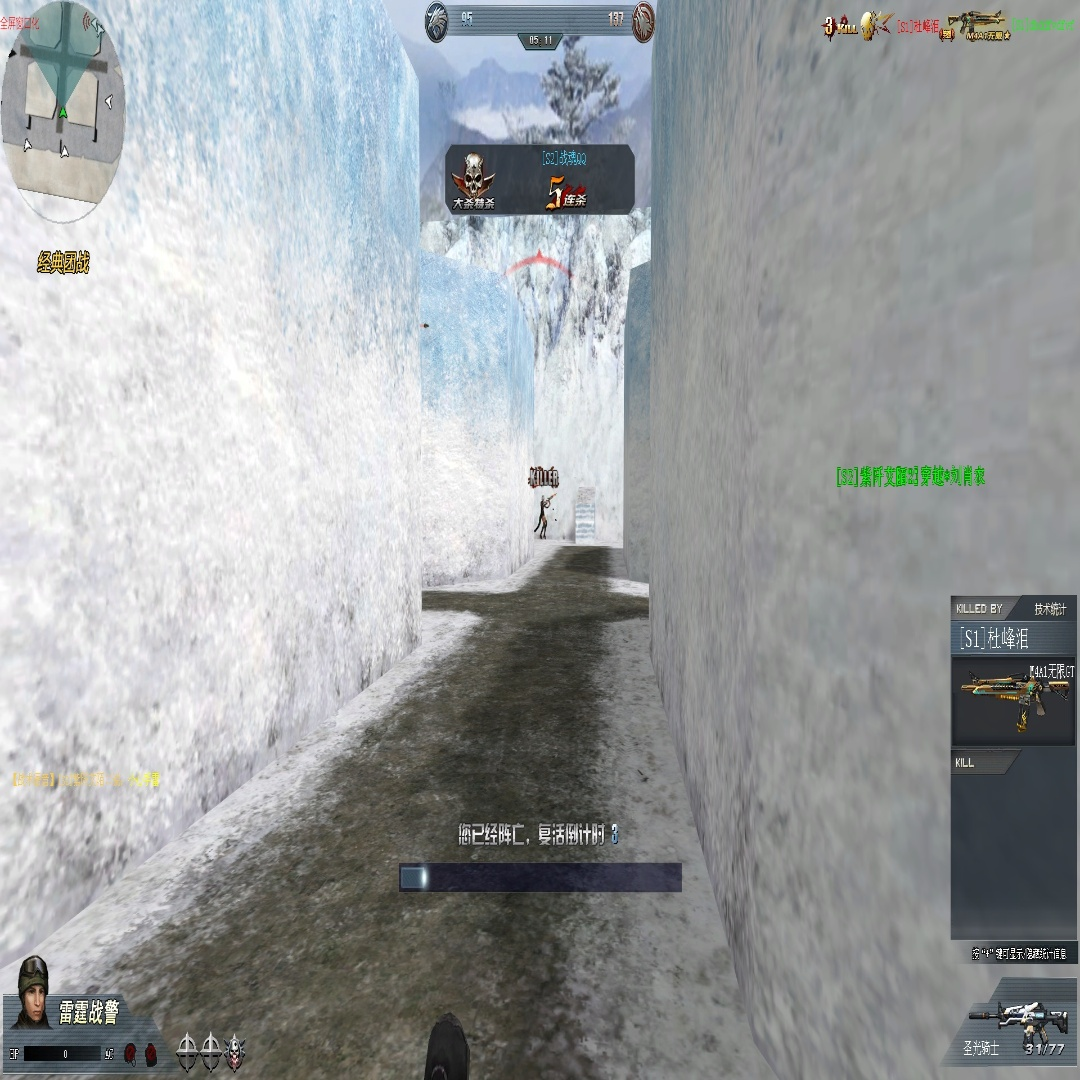head: (541, 494, 544, 502)
t: (540, 494, 547, 540)
